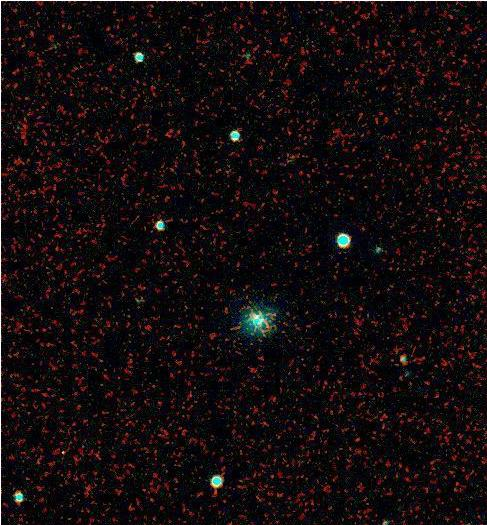star: (423, 201, 453, 231)
